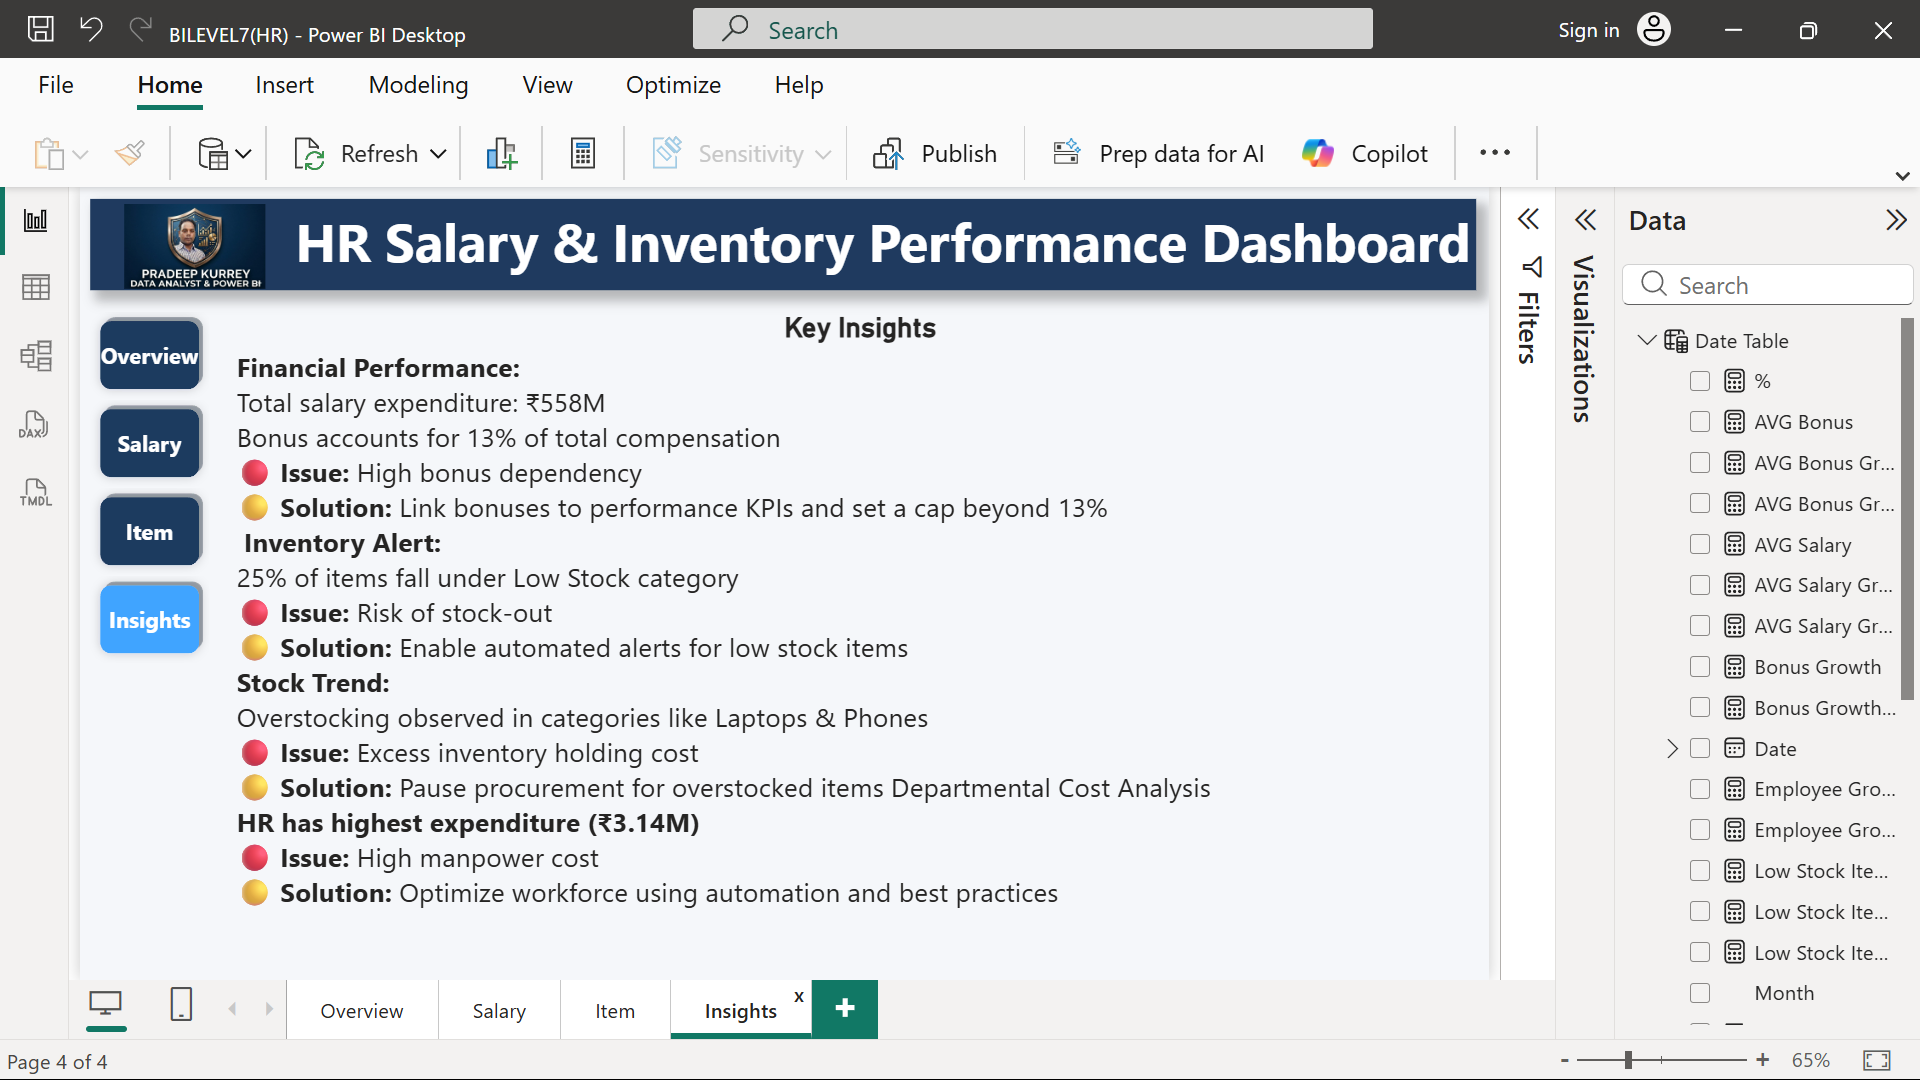

This screenshot's page, from the dashboard's own definition file:
{"tool":"powerbi","page":{"name":"Insights","canvas":[1280,720],"ordinal":3},"visuals":[{"type":"textbox","box":[9.2,11,1258.6,82.8],"z":0},{"type":"pageNavigator","box":[9.2,112.2,108.6,322],"z":1000},{"type":"image","box":[3.7,14.7,202.4,77.3],"z":2000},{"type":"textbox","title":"Key Insights","box":[138,112.2,1142.7,607.2],"z":3000}]}

Visuals, with their boxes on the page's 1280x720 design canvas (x1, y1, x2, y2). These are canvas units, not pixel positions in the 1920x1080 screenshot, which may show the page scaled, cropped or inside an application window:
textbox: 9,11,1268,94
pageNavigator: 9,112,118,434
image: 4,15,206,92
"Key Insights" textbox: 138,112,1281,719
